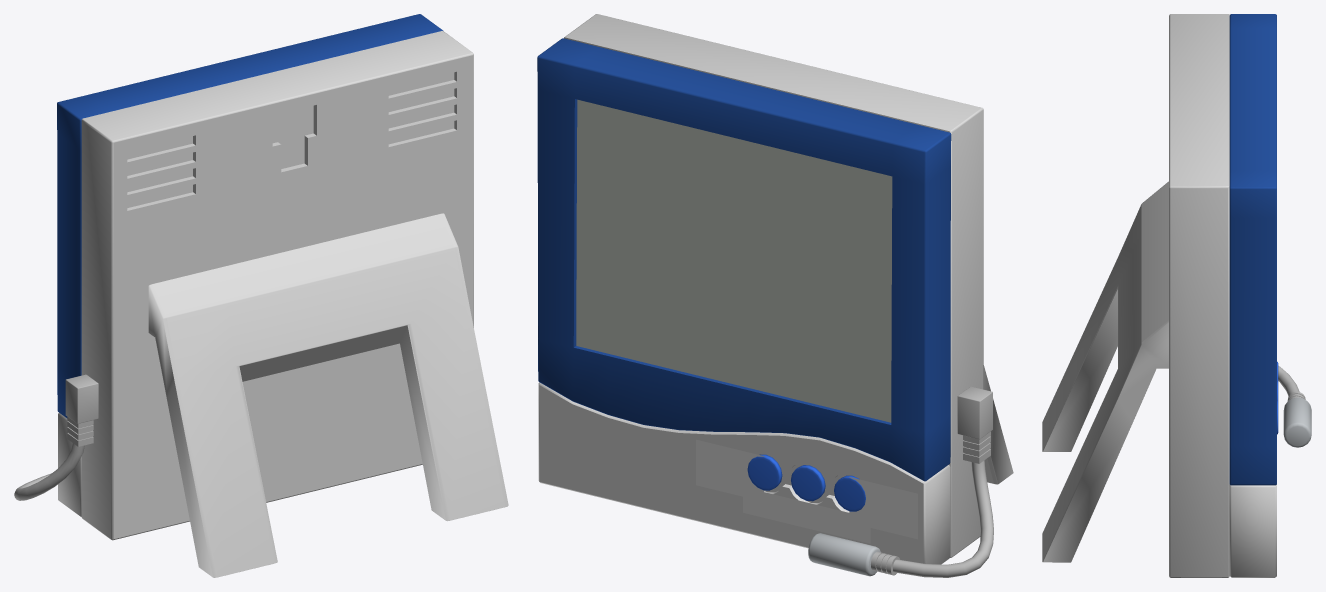
The model's file is Termohigrómetro2.fbx.
The picture shows the model from 3 angles, left to right: view 1: azimuth 30°, elevation 25°; view 2: azimuth 150°, elevation 25°; view 3: azimuth 270°, elevation 25°; orthographic projection. The views are drawn at different scales.
Parts seen in each view (by area): view 1: carcasaTracera, soporteTracero, carcasaFrontal, conectorCable, carcasaInferior, cable; view 2: carcasaFrontal, carcasaInferior, carcasaTracera, letras1, letras3, letras2, cable, conectorCable, sensor, soporteTracero, boton1, boton2 (+1 smaller); view 3: carcasaTracera, carcasaFrontal, soporteTracero, carcasaInferior, sensor.
Boxes of the visible parts, box(x1,y1,x2,y2) form: carcasaTracera: box(81, 31, 473, 540); soporteTracero: box(148, 213, 508, 577); carcasaFrontal: box(57, 14, 443, 418); conectorCable: box(65, 374, 98, 446); carcasaInferior: box(58, 413, 81, 517); cable: box(14, 443, 84, 500); carcasaFrontal: box(537, 38, 951, 481); carcasaInferior: box(538, 382, 950, 564); carcasaTracera: box(564, 14, 983, 557); letras1: box(743, 492, 870, 543); letras3: box(849, 477, 917, 539); letras2: box(696, 439, 764, 501); cable: box(893, 460, 993, 577); conectorCable: box(957, 386, 992, 463); sensor: box(808, 533, 880, 576); soporteTracero: box(983, 365, 1013, 484); boton1: box(747, 454, 782, 490); boton2: box(791, 465, 825, 501); carcasaTracera: box(1169, 14, 1229, 577); carcasaFrontal: box(1229, 14, 1276, 485); soporteTracero: box(1042, 181, 1168, 562); carcasaInferior: box(1229, 484, 1276, 577); sensor: box(1283, 397, 1311, 447).
Bounding box in the file's own units: 231 × 214 × 134.
